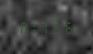eight: (18, 20, 28, 34)
one: (29, 20, 39, 34)
seven: (40, 20, 50, 34)
six: (62, 20, 72, 34)
two: (51, 20, 61, 34)
